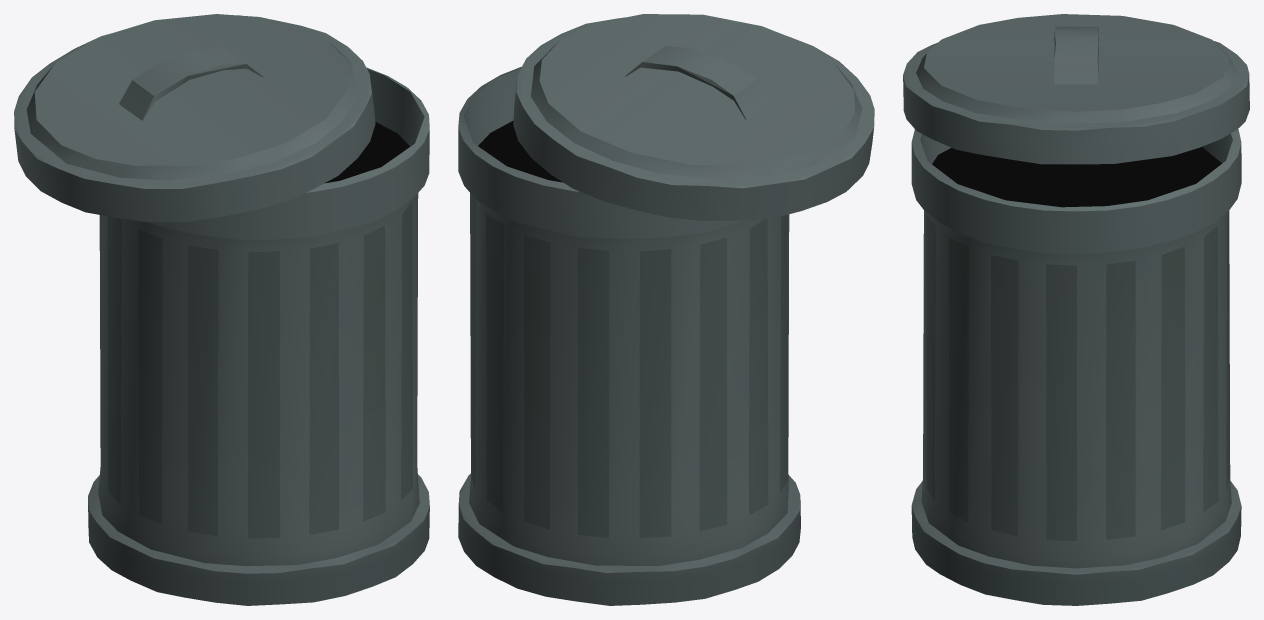
Rendered from LataLixo.glb.
The picture shows the model from 3 angles, left to right: view 1: azimuth 30°, elevation 25°; view 2: azimuth 150°, elevation 25°; view 3: azimuth 270°, elevation 25°; orthographic projection. The views are drawn at different scales.
Parts seen in each view (by area): view 1: LataLixo; view 2: LataLixo; view 3: LataLixo.
Part boxes in pixels (x1,y1,x2,y2): LataLixo: (14, 14, 429, 605); LataLixo: (458, 14, 874, 605); LataLixo: (903, 14, 1249, 605).
Bounding box in the file's own units: 2.57 × 3.26 × 2.17.
Materials: 1 (1 with a texture image).
